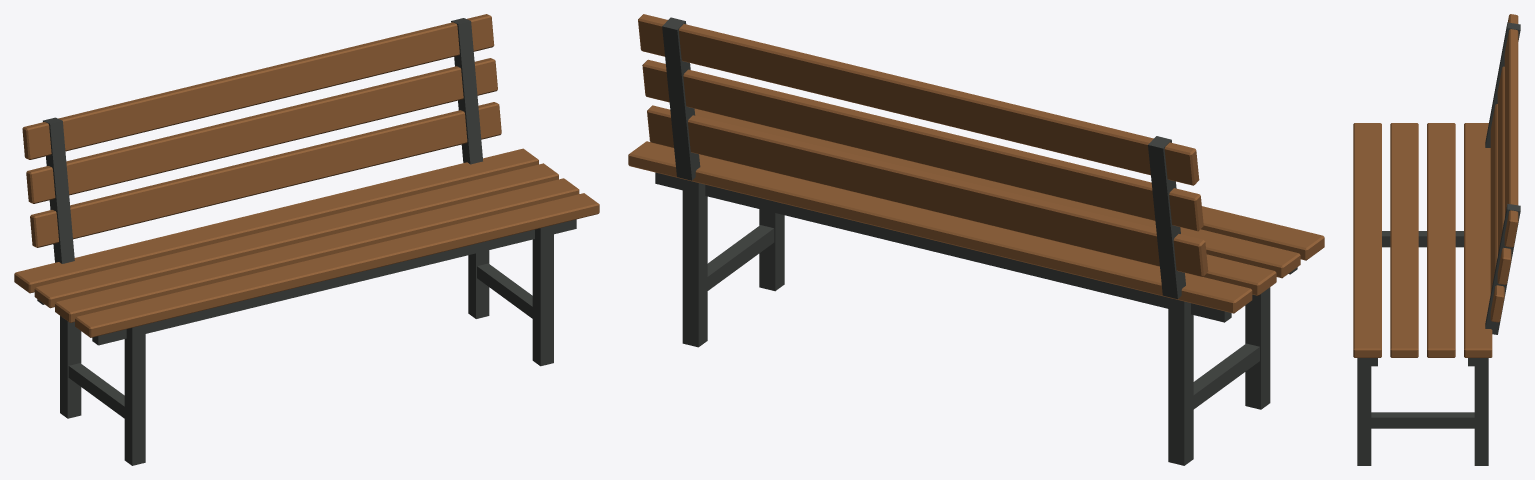
File: Bench.fbx
3 renders of one model, left to right at view 1: azimuth 30°, elevation 25°; view 2: azimuth 150°, elevation 25°; view 3: azimuth 270°, elevation 25°, orthographic. The views are drawn at different scales.
Parts seen in each view (by area): view 1: Bench; view 2: Bench; view 3: Bench.
Boxes of the visible parts, x1,y1,x2,y2 form: Bench: (14, 14, 599, 465); Bench: (628, 14, 1324, 465); Bench: (1353, 14, 1520, 465).
Bounding box in the file's own units: 1.6 × 0.8441 × 0.499.
